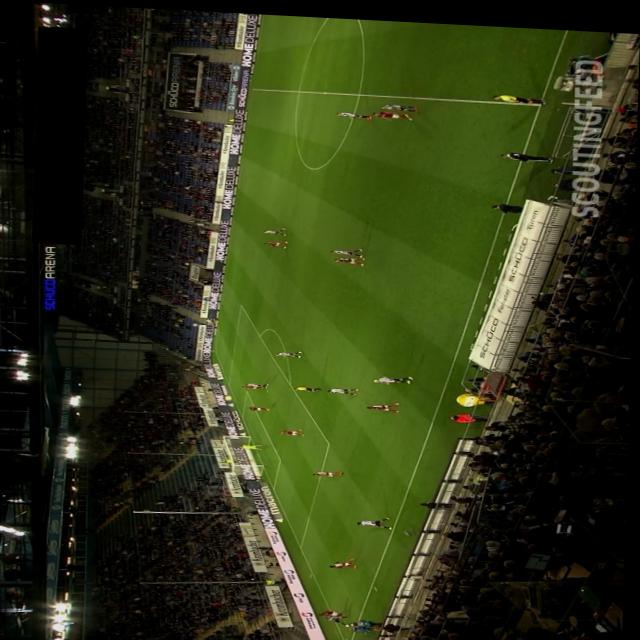goalkeeper: (241, 438, 267, 447)
player: (359, 510, 395, 525), (372, 106, 414, 116), (369, 396, 403, 408), (375, 370, 415, 380), (333, 552, 361, 565), (335, 251, 367, 262), (380, 99, 419, 108), (336, 107, 372, 116), (330, 243, 365, 252), (329, 383, 361, 392), (315, 465, 346, 473), (320, 604, 351, 612), (329, 609, 351, 620), (277, 346, 305, 354), (264, 223, 288, 232), (266, 237, 290, 245), (282, 425, 307, 432), (248, 379, 270, 384), (249, 403, 272, 407)
referee: (493, 88, 547, 99), (295, 381, 323, 388), (207, 316, 222, 320)
